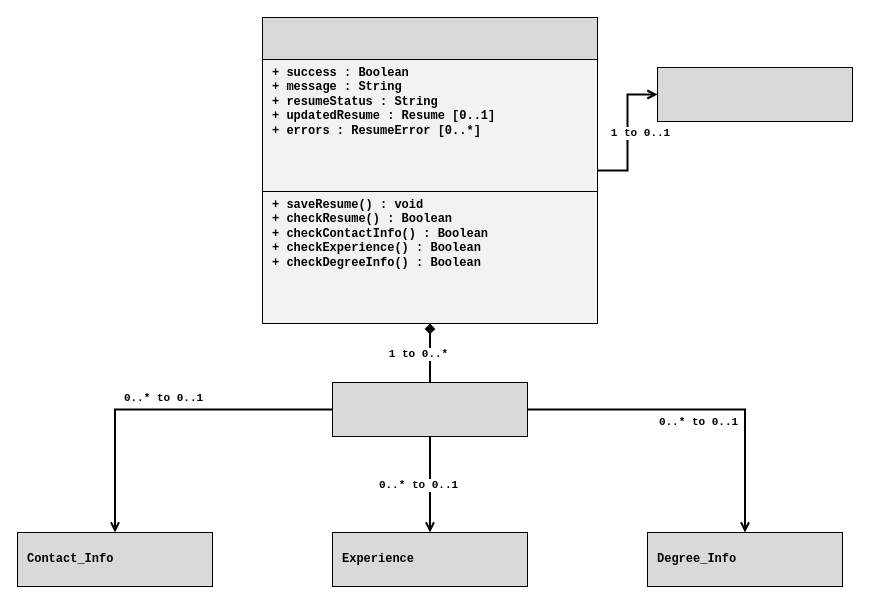
Some shapes in this 870 by 604 pixel diagram are drawn without their labels. Here are the shapes that lost their labels. From the top down, the centre of each, then its label:
the point at 430,38: UpdateResumeResponse
the point at 754,94: Resume
the point at 430,409: ResumeError
